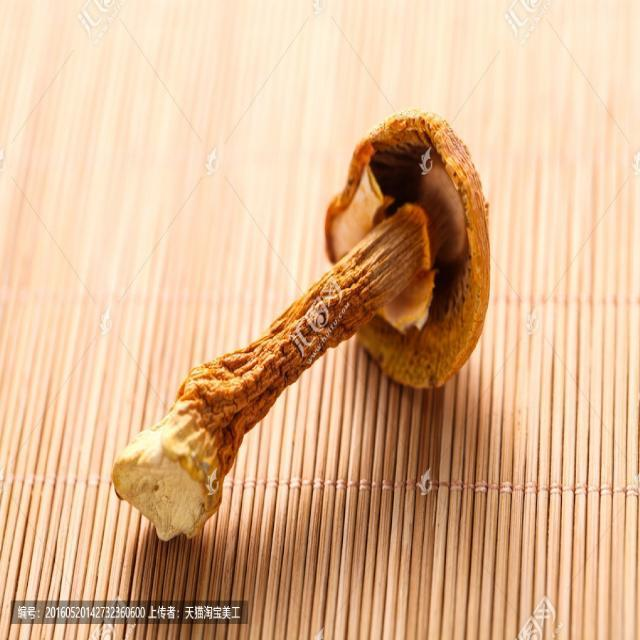Agaricus blazei Murill: (116, 110, 490, 547)
